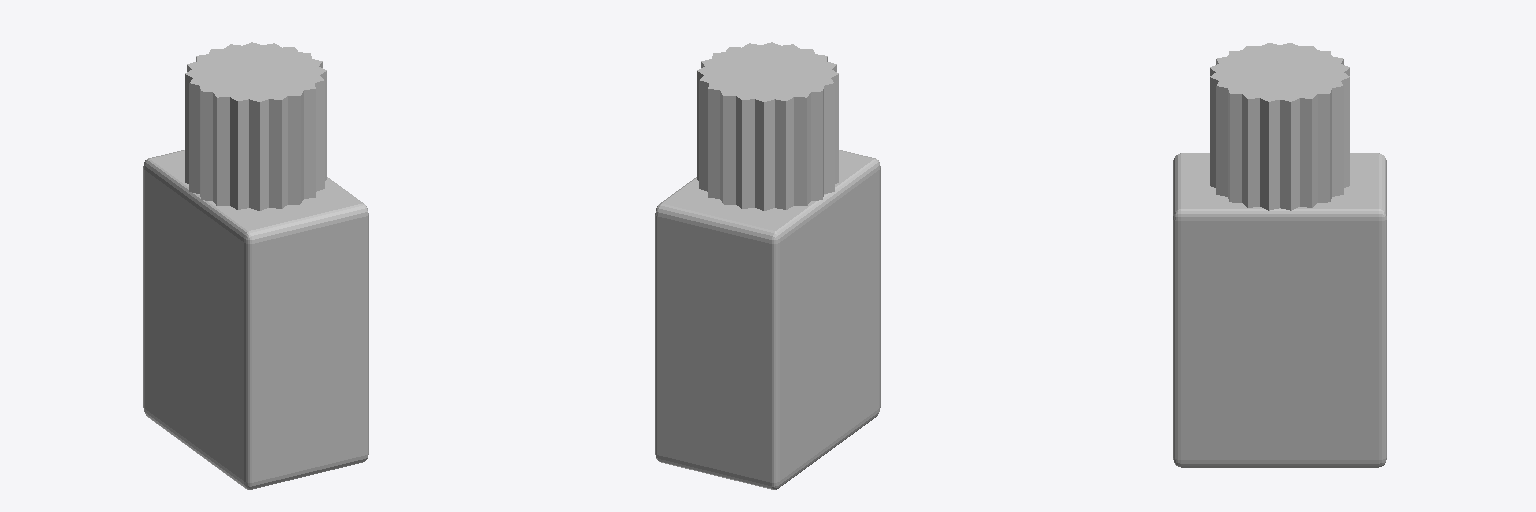
File: bouteille2.obj
3 renders of one model, left to right at view 1: azimuth 30°, elevation 25°; view 2: azimuth 150°, elevation 25°; view 3: azimuth 270°, elevation 25°, orthographic.
Parts seen in each view (by area): view 1: Cube.002, Cylinder_Cylinder.001; view 2: Cube.002, Cylinder_Cylinder.001; view 3: Cube.002, Cylinder_Cylinder.001.
Boxes of the visible parts, box(x1,y1,x2,y2) form: Cube.002: box(143, 150, 368, 489); Cylinder_Cylinder.001: box(185, 42, 326, 210); Cube.002: box(655, 150, 880, 489); Cylinder_Cylinder.001: box(697, 42, 838, 210); Cube.002: box(1173, 153, 1386, 467); Cylinder_Cylinder.001: box(1210, 43, 1349, 210).
Bounding box in the file's own units: 3.14 × 8.91 × 4.7.